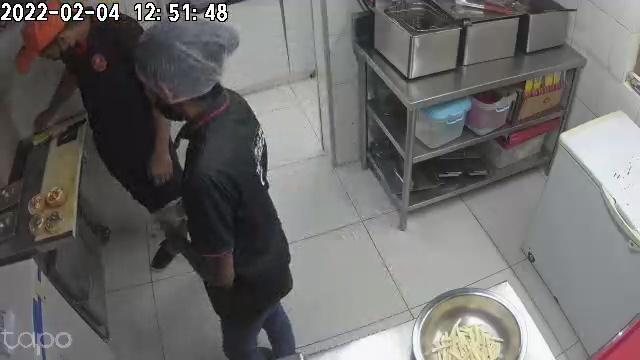no_gloves: (151, 135, 173, 186)
